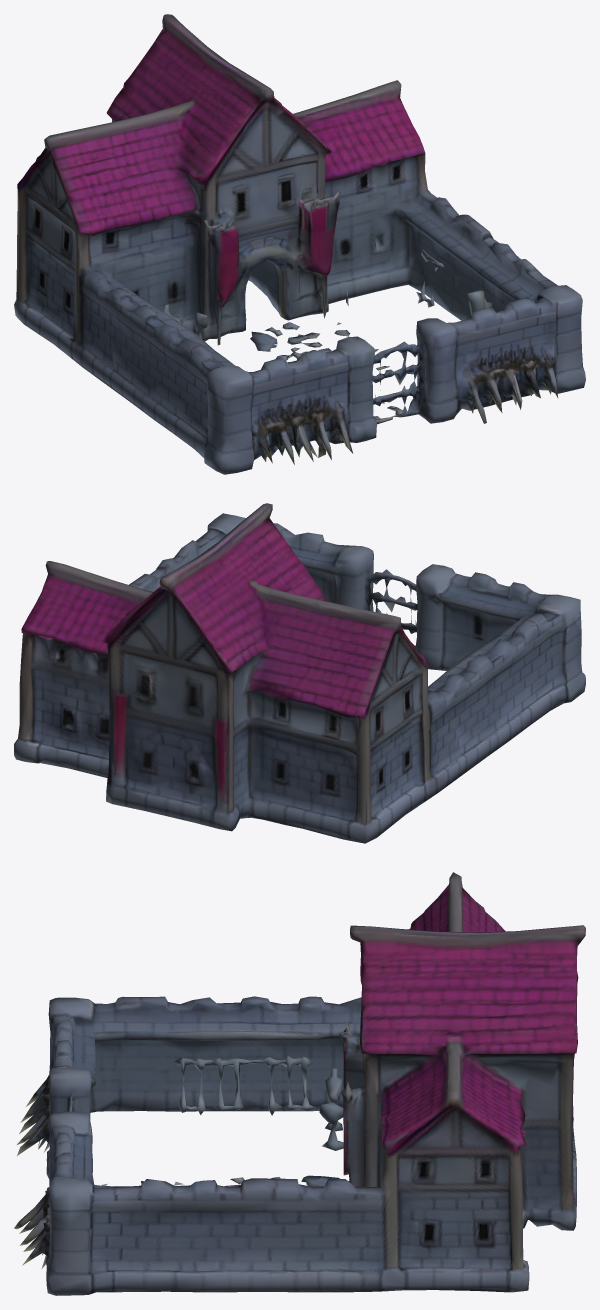
Rendered from guard_barracks.glb.
3 renders of one model, top to bottom at view 1: azimuth 30°, elevation 25°; view 2: azimuth 150°, elevation 25°; view 3: azimuth 270°, elevation 25°, orthographic. The views are drawn at different scales.
Parts seen in each view (by area): view 1: GuardBarracks; view 2: GuardBarracks; view 3: GuardBarracks.
Part boxes in pixels (x1,y1,x2,y2): GuardBarracks: (14, 14, 585, 474); GuardBarracks: (14, 503, 585, 843); GuardBarracks: (14, 872, 585, 1295).
Size of the model in its own units: 6.65 by 4.18 by 8.
Materials: 1 (1 with a texture image).
